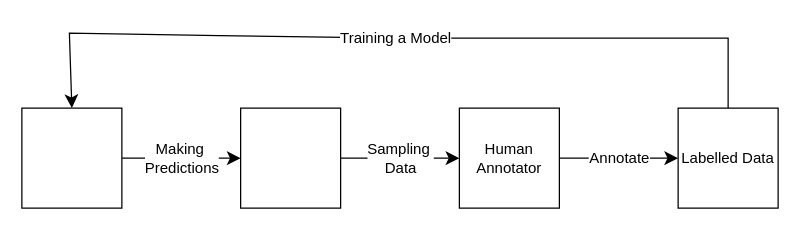
Image size: 800x230. Some labels were removed from this diagram. Here are the shapes that lost their labels. From the top down, the box of each, then its label:
(21, 107, 122, 208): Model
(239, 107, 341, 208): Unlabelled Data
